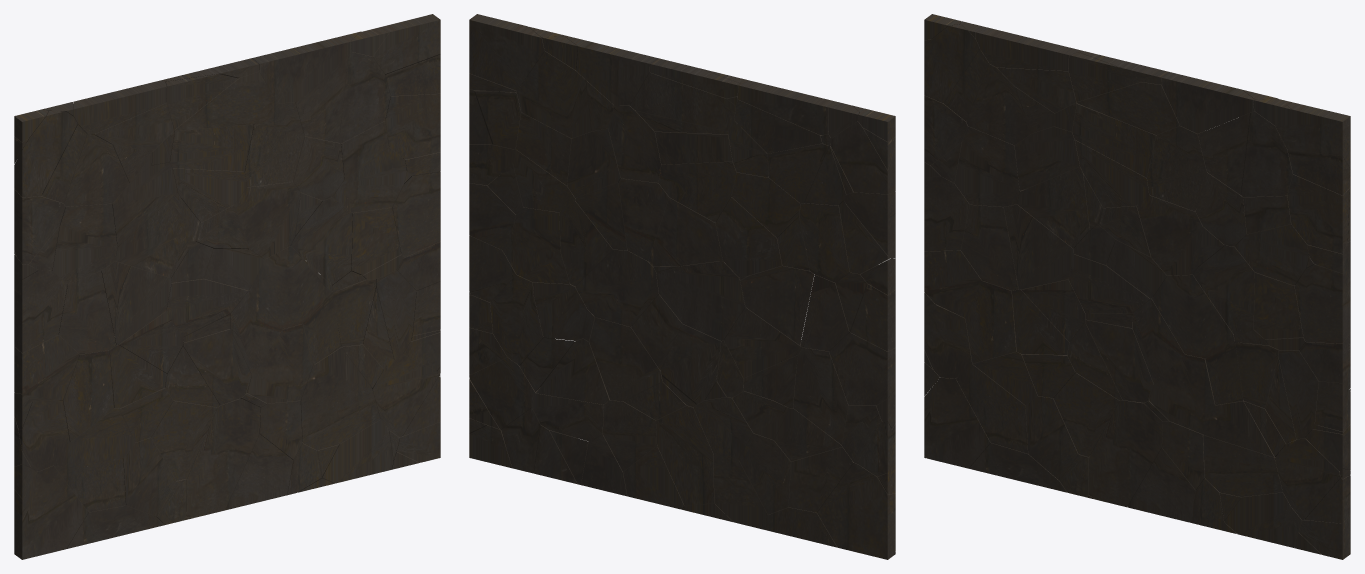
File: 3x3BreakableWallFRACTURED.fbx
3 views of the same model, side by side, from view 1: azimuth 30°, elevation 25°; view 2: azimuth 150°, elevation 25°; view 3: azimuth 330°, elevation 25° (orthographic).
Visible parts, largest first — view 1: Wall3x3_cell.032, Wall3x3_cell.090, Wall3x3_cell.081, Wall3x3_cell.057, Wall3x3_cell.027, Wall3x3_cell.109, Wall3x3_cell.059, Wall3x3_cell.007, Wall3x3_cell.086, Wall3x3_cell.111, Wall3x3_cell.119, Wall3x3_cell.042 (+67 smaller); view 2: Wall3x3_cell.090, Wall3x3_cell.010, Wall3x3_cell.081, Wall3x3_cell.043, Wall3x3_cell.074, Wall3x3_cell.032, Wall3x3_cell.042, Wall3x3_cell.109, Wall3x3_cell.004, Wall3x3_cell.072, Wall3x3_cell.050, Wall3x3_cell.014 (+74 smaller); view 3: Wall3x3_cell.032, Wall3x3_cell.090, Wall3x3_cell.081, Wall3x3_cell.057, Wall3x3_cell.027, Wall3x3_cell.059, Wall3x3_cell.109, Wall3x3_cell.101, Wall3x3_cell.007, Wall3x3_cell.108, Wall3x3_cell.086, Wall3x3_cell.111 (+67 smaller).
Part boxes in pixels (<box>): Wall3x3_cell.032: <box>186,398,260,517</box>; Wall3x3_cell.090: <box>14,465,88,559</box>; Wall3x3_cell.081: <box>249,246,332,328</box>; Wall3x3_cell.057: <box>52,203,117,284</box>; Wall3x3_cell.027: <box>244,102,304,187</box>; Wall3x3_cell.109: <box>101,261,171,345</box>; Wall3x3_cell.059: <box>234,181,300,259</box>; Wall3x3_cell.007: <box>252,40,351,102</box>; Wall3x3_cell.086: <box>115,193,187,277</box>; Wall3x3_cell.111: <box>290,197,352,285</box>; Wall3x3_cell.119: <box>300,389,380,450</box>; Wall3x3_cell.042: <box>247,323,312,403</box>; Wall3x3_cell.090: <box>817,462,895,559</box>; Wall3x3_cell.010: <box>656,261,745,340</box>; Wall3x3_cell.081: <box>575,249,658,326</box>; Wall3x3_cell.043: <box>516,51,591,138</box>; Wall3x3_cell.074: <box>469,14,544,90</box>; Wall3x3_cell.032: <box>656,405,714,506</box>; Wall3x3_cell.042: <box>589,317,662,401</box>; Wall3x3_cell.109: <box>740,265,814,345</box>; Wall3x3_cell.004: <box>793,347,848,444</box>; Wall3x3_cell.072: <box>630,72,735,131</box>; Wall3x3_cell.050: <box>829,332,895,405</box>; Wall3x3_cell.014: <box>648,197,722,266</box>; Wall3x3_cell.032: <box>1088,399,1162,507</box>; Wall3x3_cell.090: <box>924,377,990,468</box>; Wall3x3_cell.081: <box>1152,274,1234,358</box>; Wall3x3_cell.057: <box>954,126,1019,206</box>; Wall3x3_cell.027: <box>1147,126,1206,211</box>; Wall3x3_cell.059: <box>1137,195,1202,275</box>; Wall3x3_cell.109: <box>1003,204,1073,289</box>; Wall3x3_cell.101: <box>1294,264,1350,343</box>; Wall3x3_cell.007: <box>1161,72,1254,133</box>; Wall3x3_cell.108: <box>1287,174,1349,253</box>; Wall3x3_cell.086: <box>1017,167,1096,248</box>; Wall3x3_cell.111: <box>1193,245,1254,334</box>.
Size of the model in its own units: 300 by 300 by 9.85.
